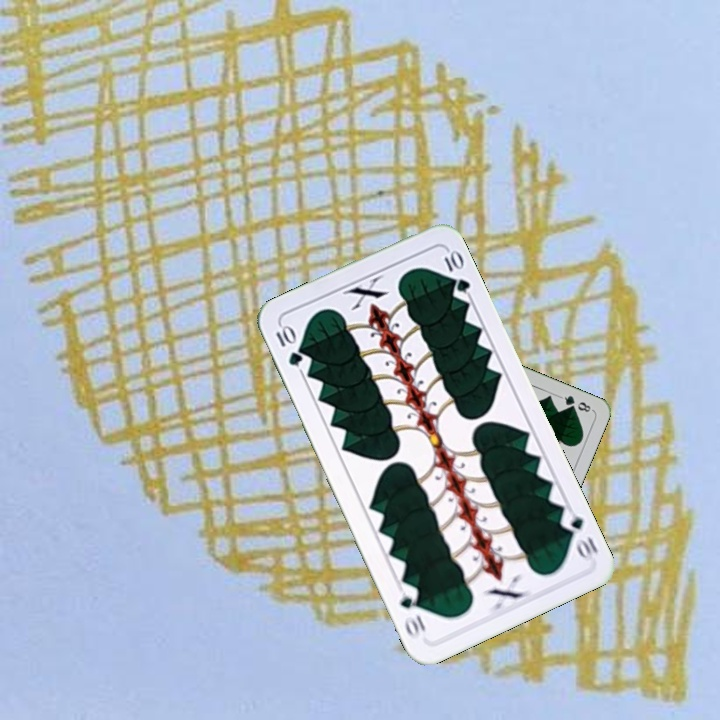G10: (556, 505, 601, 564), (271, 321, 305, 369)
G8: (556, 391, 595, 415)
